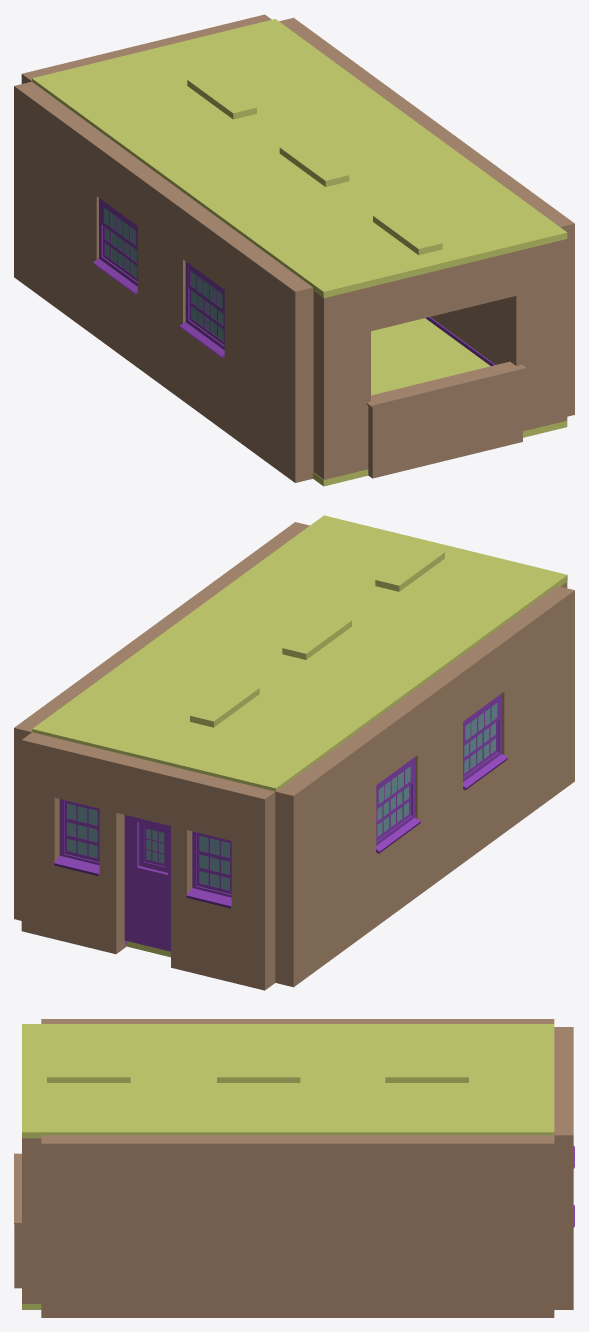
The model's file is walls2.fbx.
3 views of the same model, one above another, from view 1: azimuth 30°, elevation 25°; view 2: azimuth 150°, elevation 25°; view 3: azimuth 270°, elevation 25° (orthographic). The views are drawn at different scales.
Visible parts, largest first — view 1: walls, Floors, Windows, Glass; view 2: walls, Floors, Windows, Glass; view 3: walls, Floors.
Part boxes in pixels (x1,y1,x2,y2): walls: (14,14,574,482); Floors: (32,19,567,486); Windows: (93,198,495,365); Glass: (103,207,223,341); walls: (14,522,574,990); Floors: (32,515,567,957); Windows: (54,693,507,951); Glass: (67,703,497,890); walls: (14,1019,573,1317); Floors: (22,1024,554,1309).
Size of the model in its own units: 4.65 by 3.15 by 8.75.
